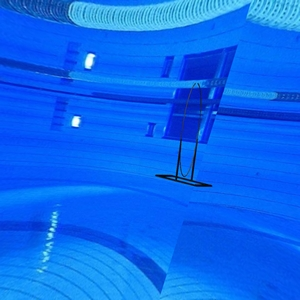circle: (154, 81, 214, 190)
